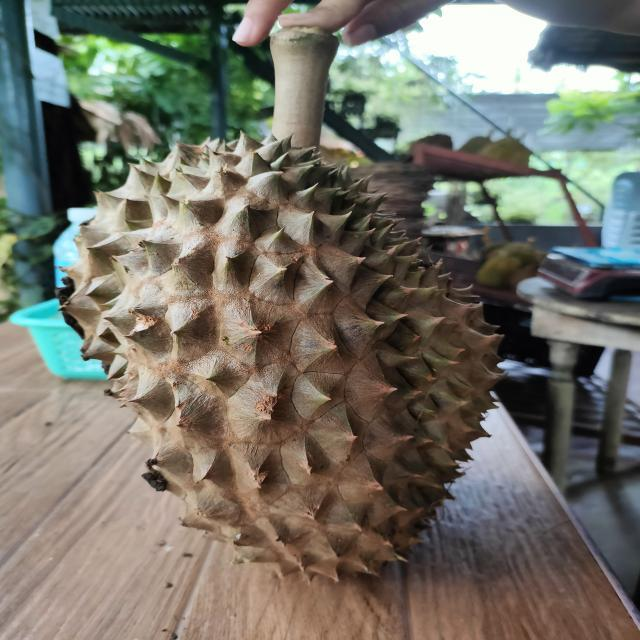mature: (62, 135, 502, 579)
